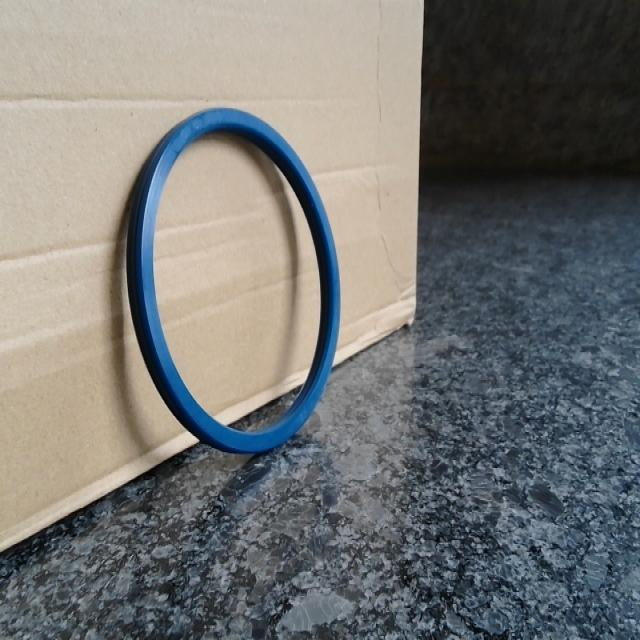purssian-blue-ring: (128, 108, 340, 453)
